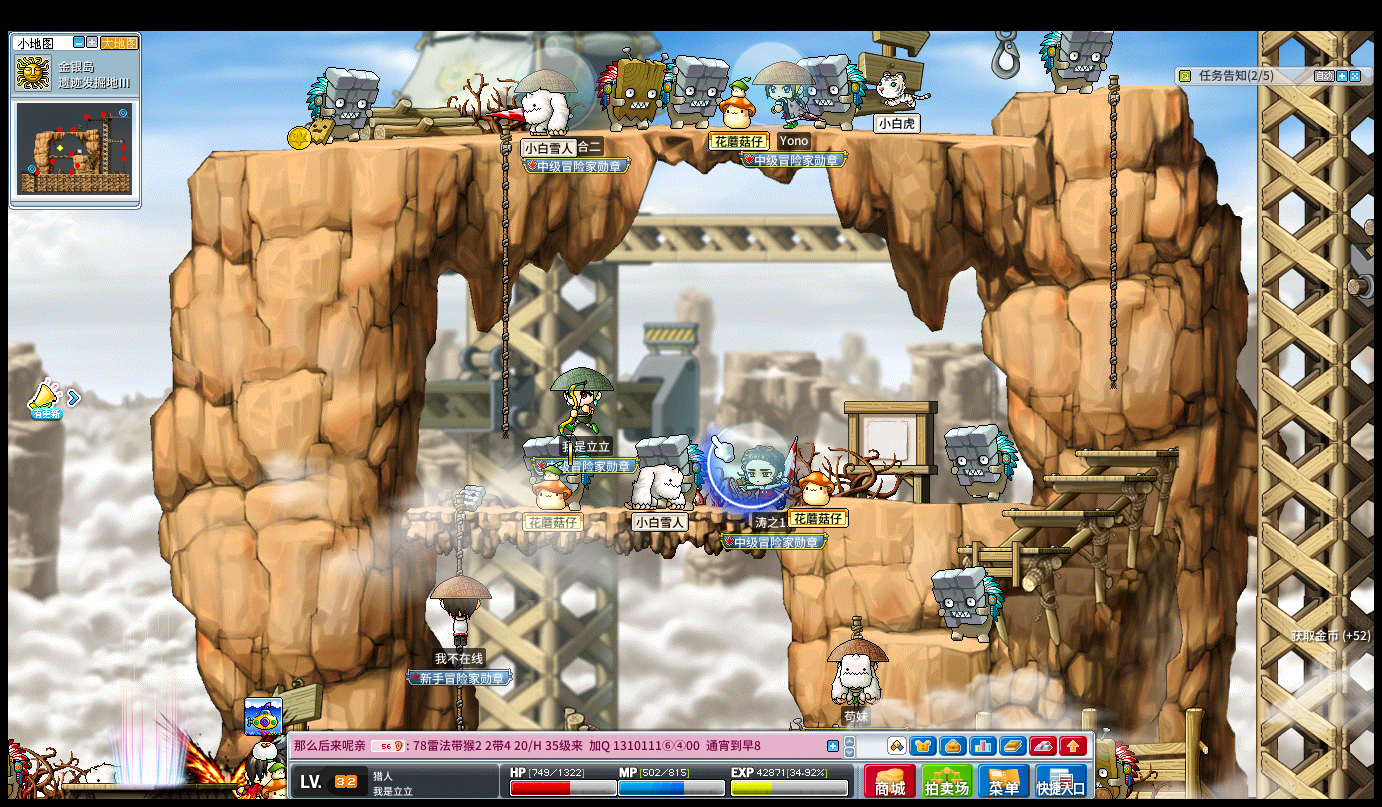floor: (193, 121, 1041, 153), (410, 504, 784, 516), (1019, 82, 1182, 96), (881, 631, 988, 651), (874, 498, 1039, 509), (1073, 447, 1179, 458), (1040, 473, 1153, 481), (957, 545, 1069, 553), (1003, 509, 1114, 516)
monster: (597, 49, 670, 130), (305, 65, 378, 143), (944, 425, 1017, 501), (930, 566, 1002, 643), (664, 53, 729, 129), (1039, 28, 1113, 94), (806, 53, 866, 131), (1089, 733, 1137, 794), (635, 432, 702, 467), (1, 734, 25, 804)
rope: (1105, 70, 1120, 393), (497, 121, 509, 449), (451, 498, 464, 575), (453, 684, 463, 729)
